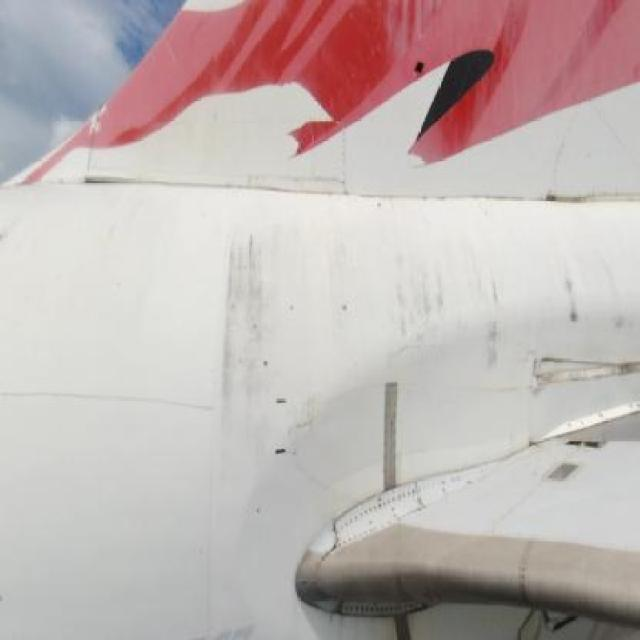Missing-Rivet: (322, 479, 453, 541), (328, 592, 432, 636), (514, 534, 534, 601)
Rust: (308, 210, 512, 372), (214, 212, 300, 452), (538, 216, 637, 350)
Scartch: (527, 351, 640, 417), (281, 390, 336, 450)
